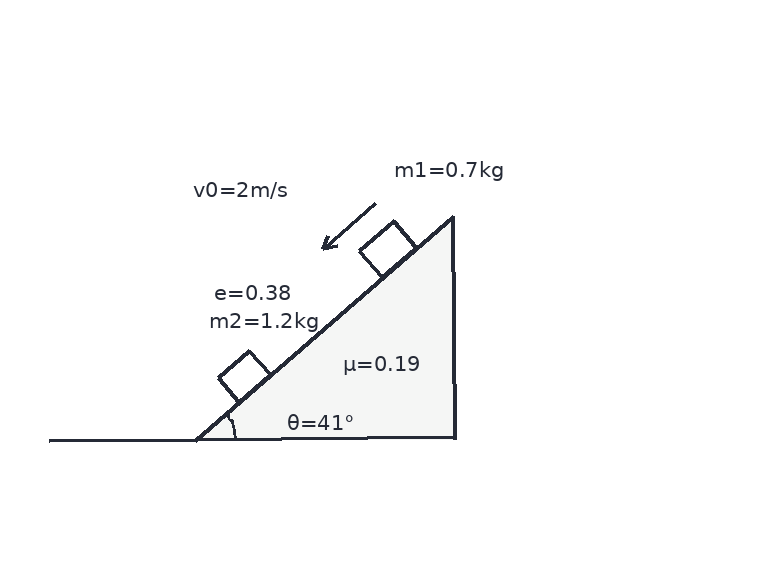block: (357, 219, 419, 279), (216, 349, 271, 404)
ramp: (193, 213, 454, 441)
